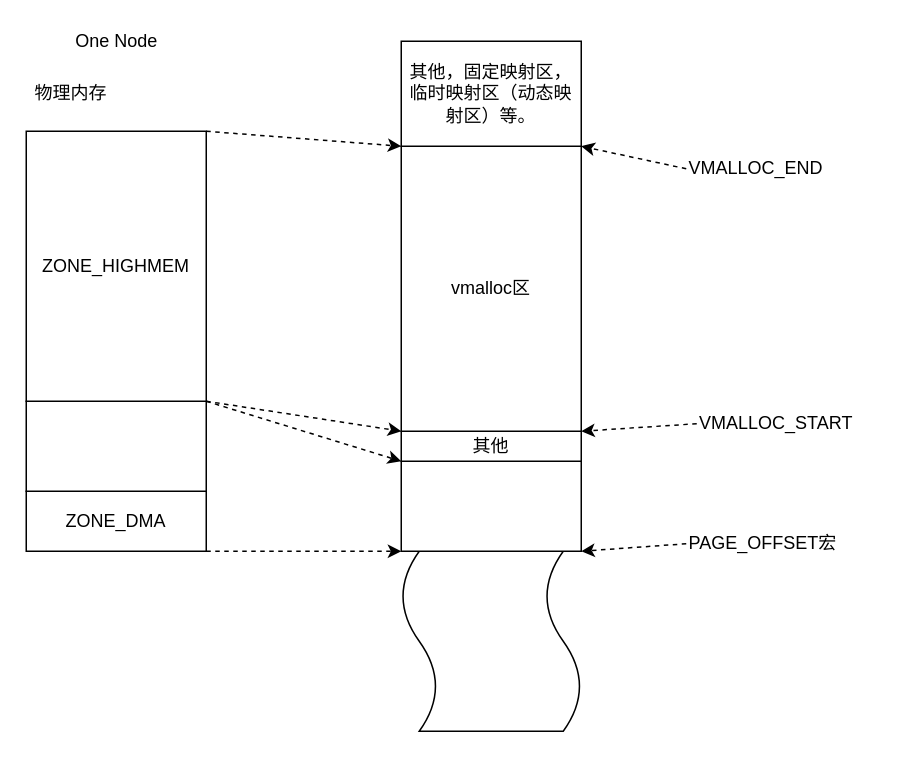
Some shapes in this 903 by 758 pixel diagram are drawn without their labels. The shapes that lost their labels are listed below. From the top down, each one's centre as x and y in pixels, then its label:
the point at 115,445: ZONE_NORMAL
the point at 490,505: 直接映射区域
the point at 490,640: 用户空间
